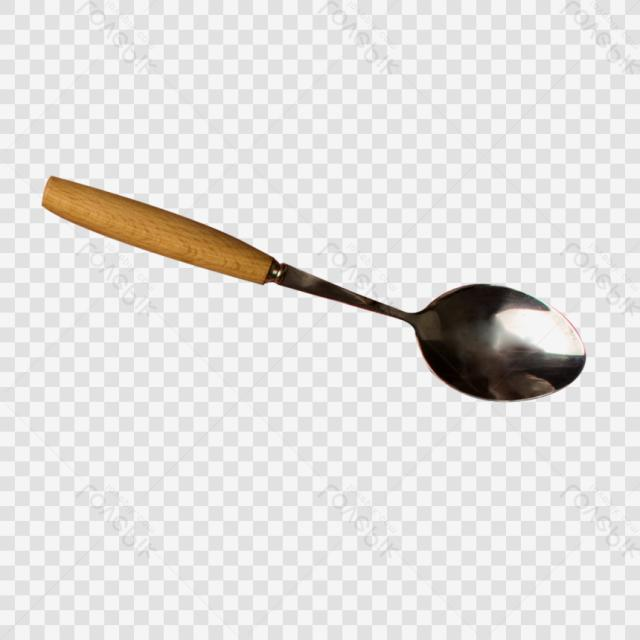Sendok: (24, 164, 605, 413)
